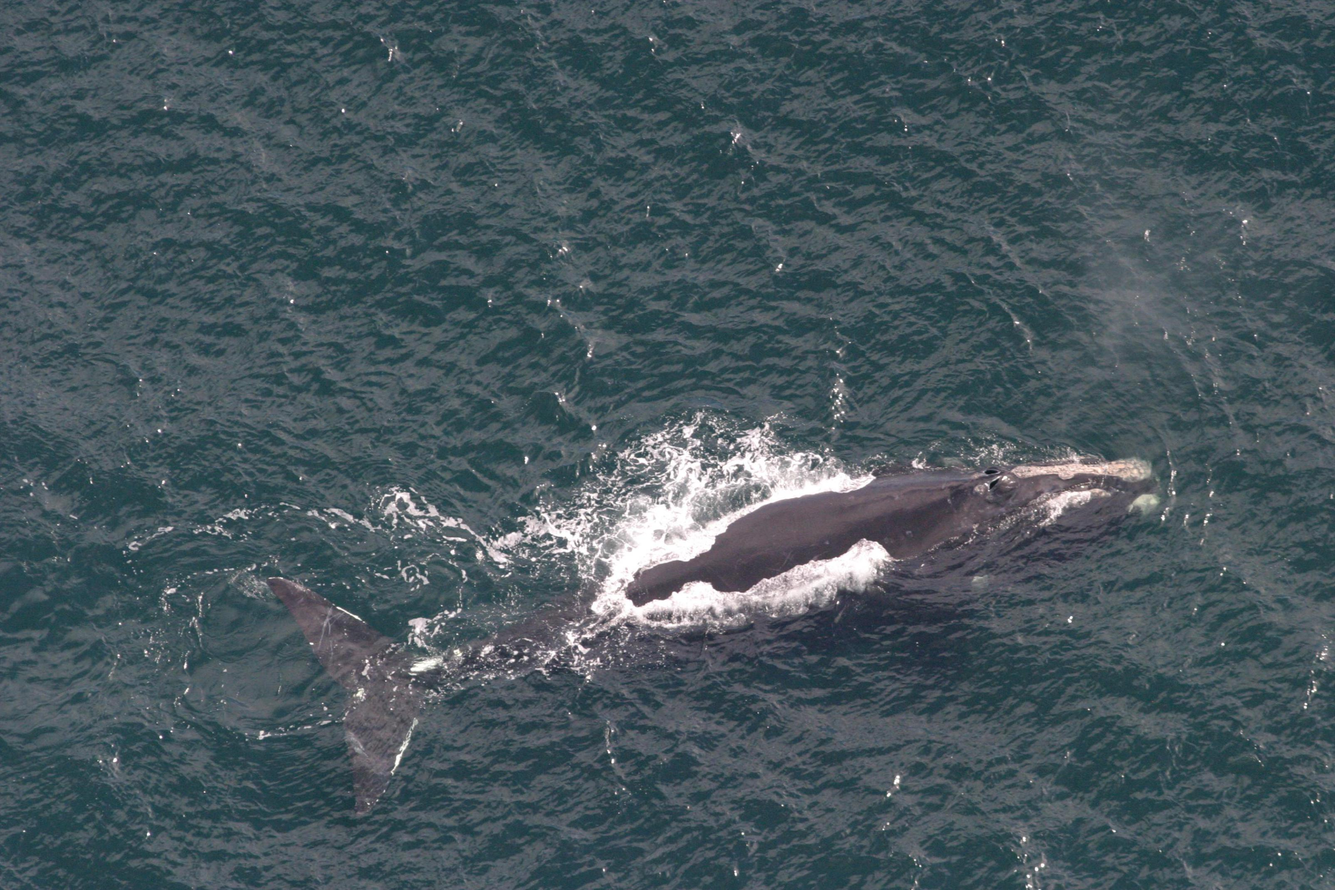whale: (254, 446, 1174, 826)
